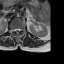CCS_normal: (16, 27, 18, 35)
LFS_normal: (20, 26, 22, 32)
LLS_normal: (18, 26, 20, 33)
RFS_normal: (12, 27, 14, 33)
RLS_normal: (14, 26, 16, 33)
